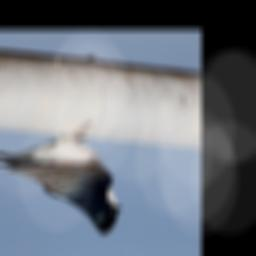Swallow: (0, 121, 122, 235)
